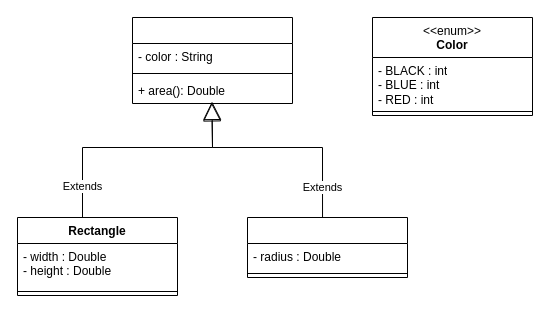
The diagram is 550 pixels wide and 313 high, and some of its shapes have lost their labels. Each missing label, with the box of its shape:
Circle: (246, 216, 408, 278)
Shape: (132, 16, 292, 104)
